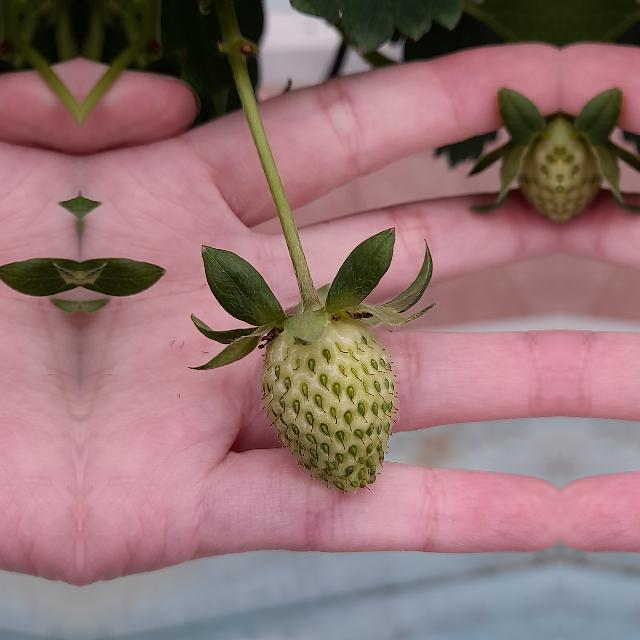Health_25: (261, 316, 395, 492)
